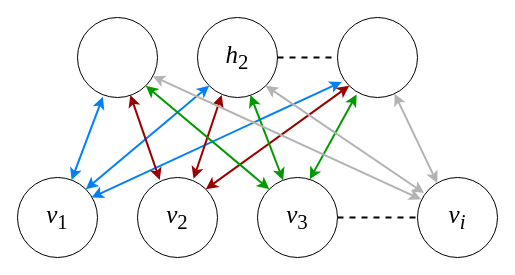
Image size: 515x275. Some labels were removed from this diagram. Each missing label, with the centre of its shape:
h 1: point (117, 57)
h j: point (377, 57)
